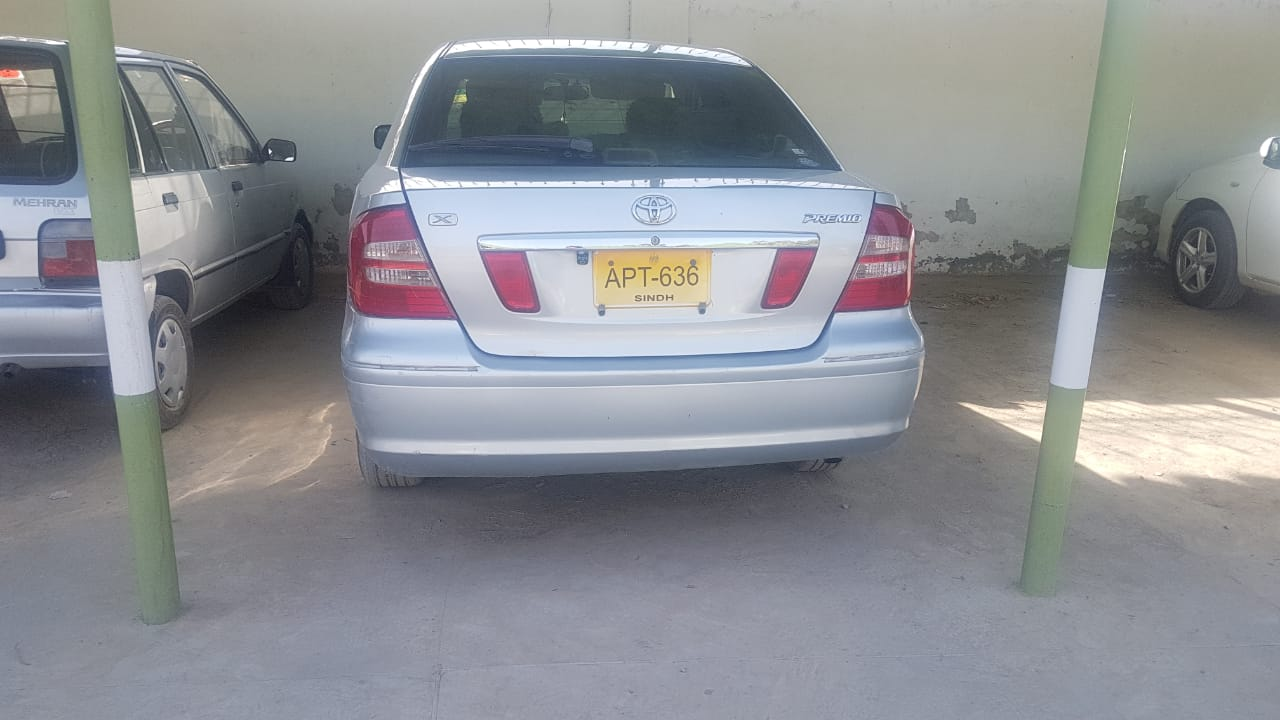license plate: (591, 253, 714, 310)
